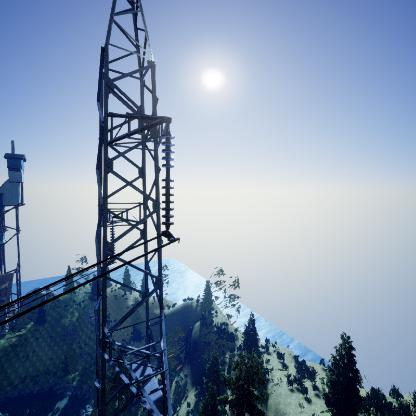insulator: (158, 132, 176, 230)
